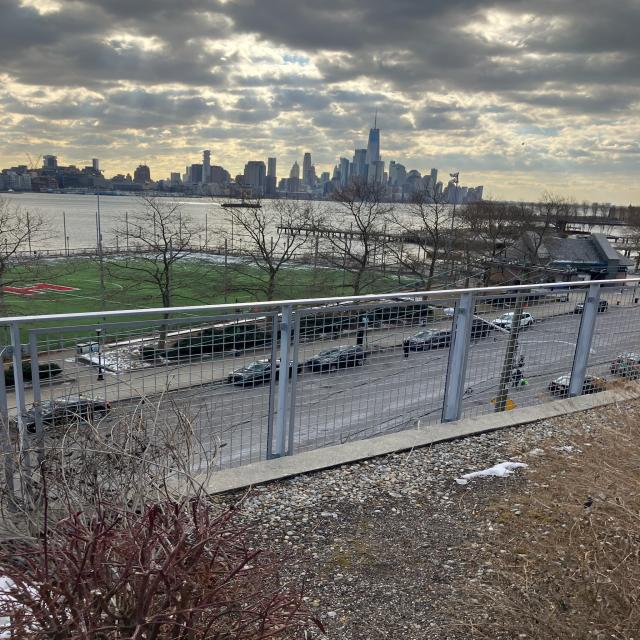WTC: (365, 107, 381, 162)
